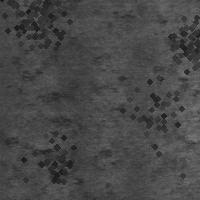rolled-in_scale: (12, 45, 121, 180), (101, 60, 200, 164), (0, 0, 76, 69), (2, 0, 80, 64), (20, 125, 90, 195), (152, 2, 200, 78), (3, 0, 75, 43)
